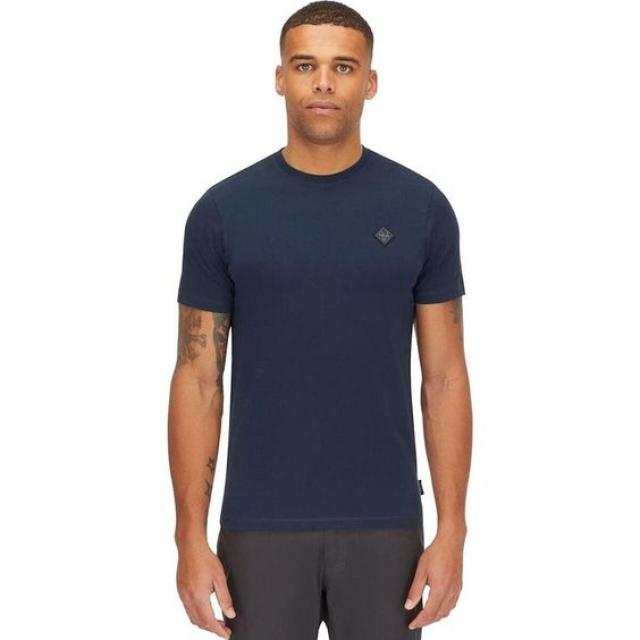shoulder: (182, 154, 461, 260)
